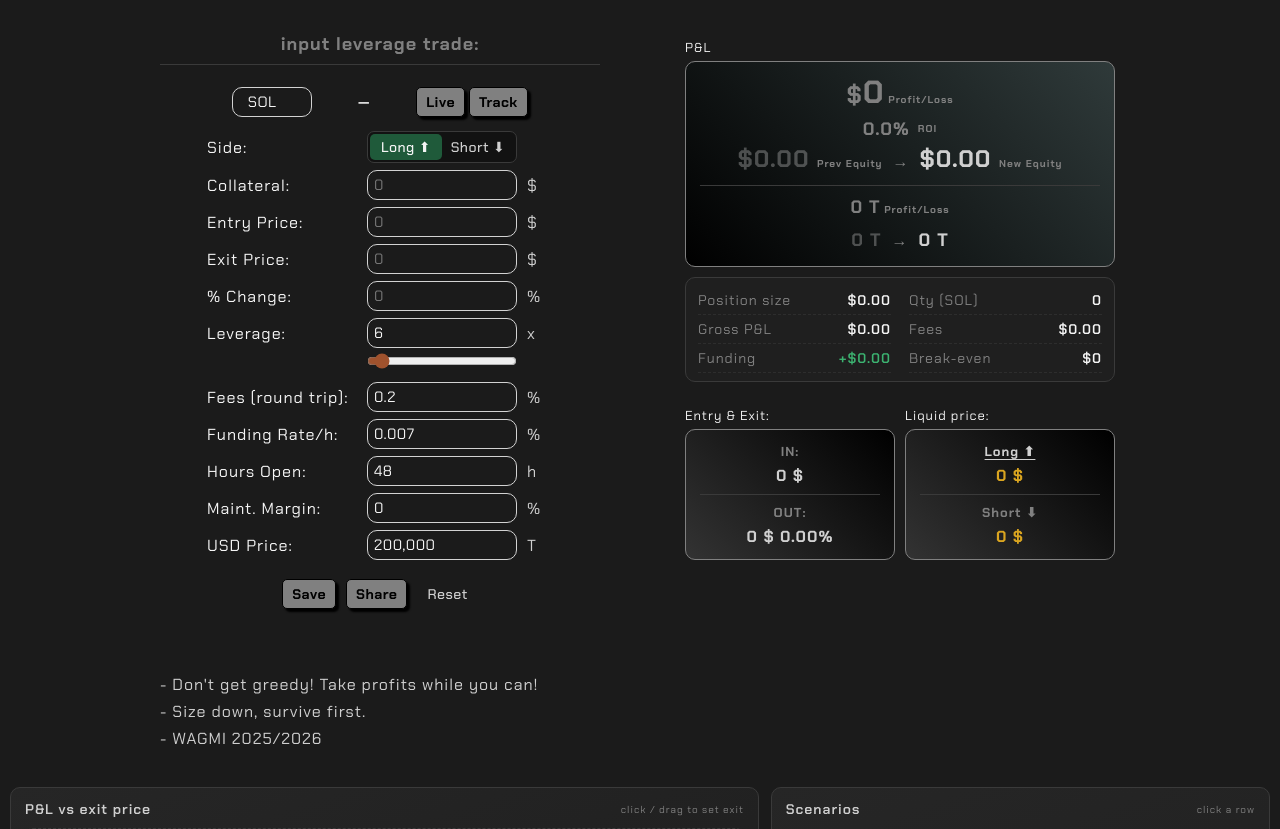
Scenario: Leverage calculator › toggles short with the x shortcut and recomputes pnl
Step 1. Type "100" into the field named "Collateral" → point(442, 185), box top-left (367, 170), bottom-right (517, 200)
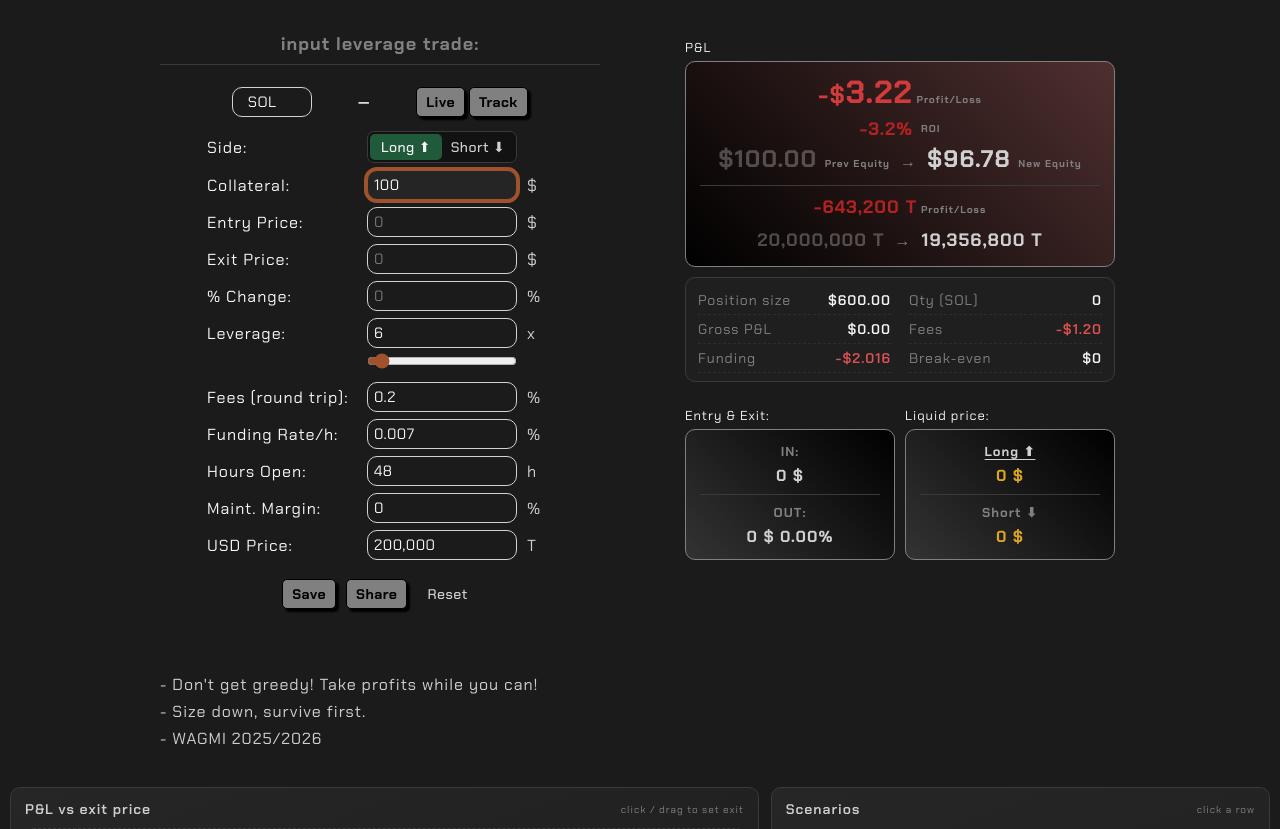
Step 2. Type "100" into the field named "Entry Price" → point(442, 222), box top-left (367, 207), bottom-right (517, 237)
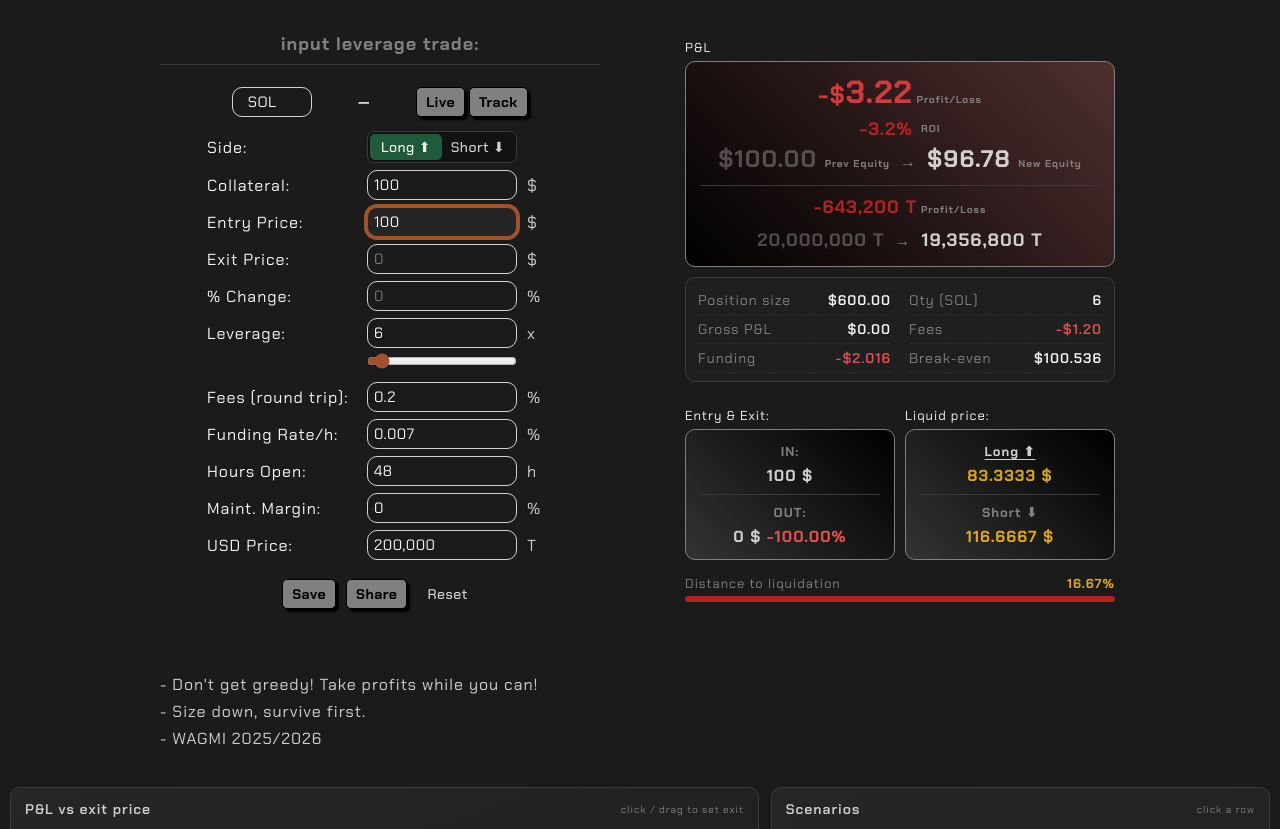
Step 3. Replace the text in the field named "Fees" with "0" → point(442, 397), box top-left (367, 382), bottom-right (517, 412)
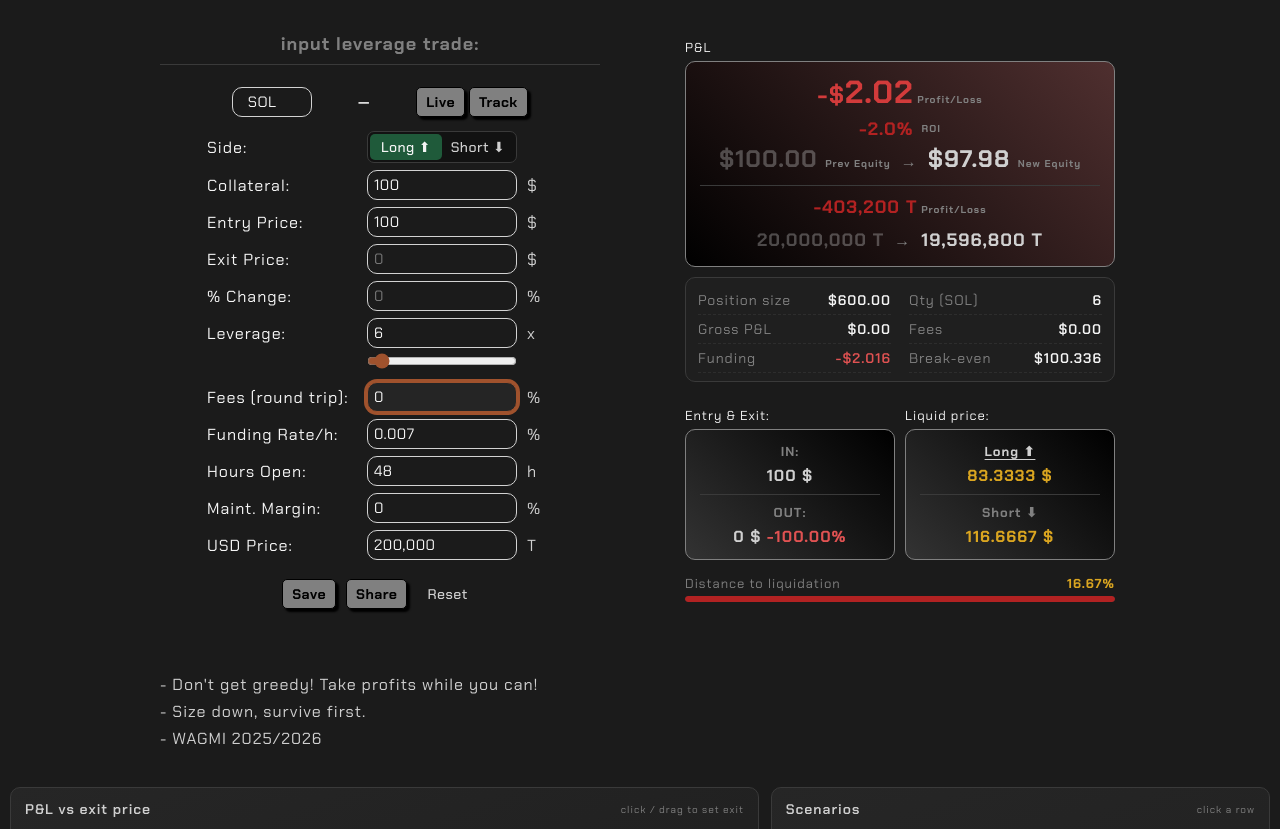
Step 4. Replace the text in the field named "Funding Rate" with "0" → point(442, 434), box top-left (367, 419), bottom-right (517, 449)
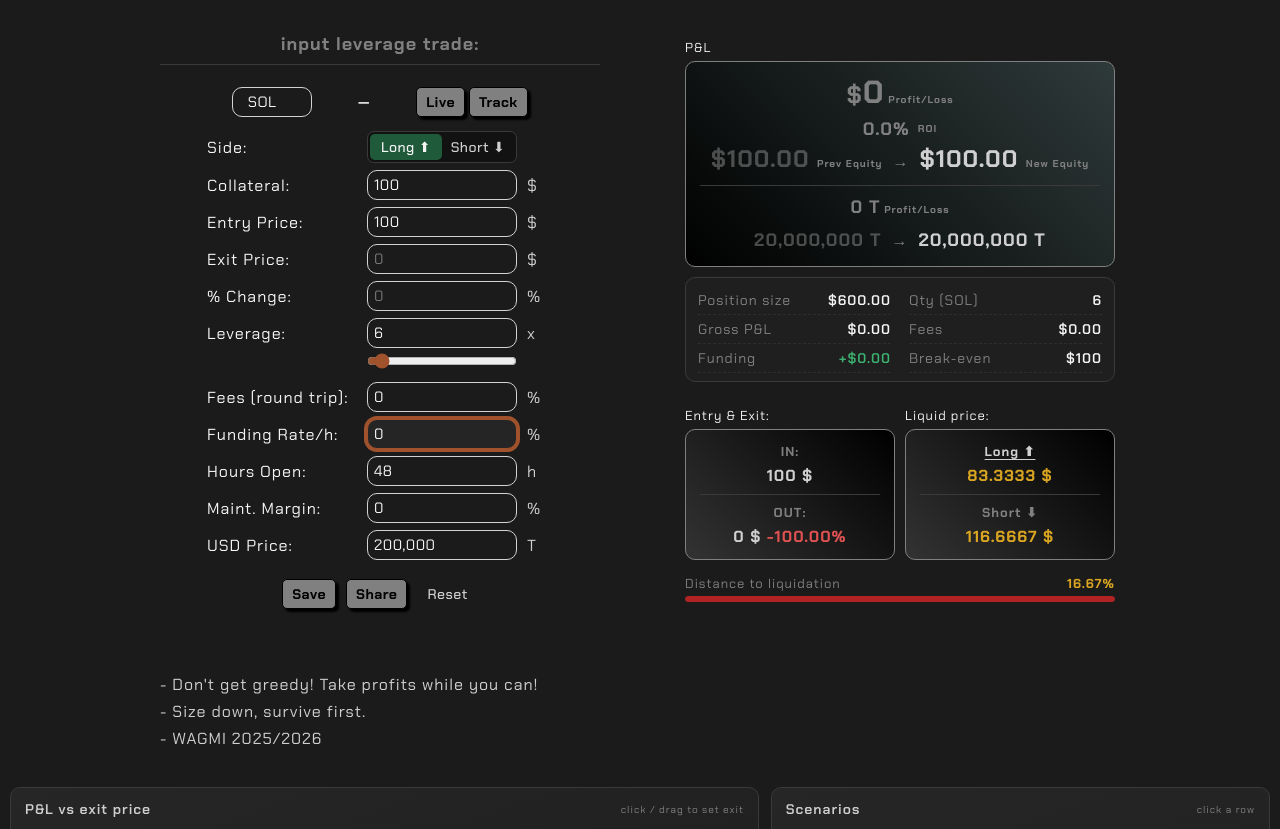
Step 5. Type "80" into the field named "Exit Price" → point(442, 259), box top-left (367, 244), bottom-right (517, 274)
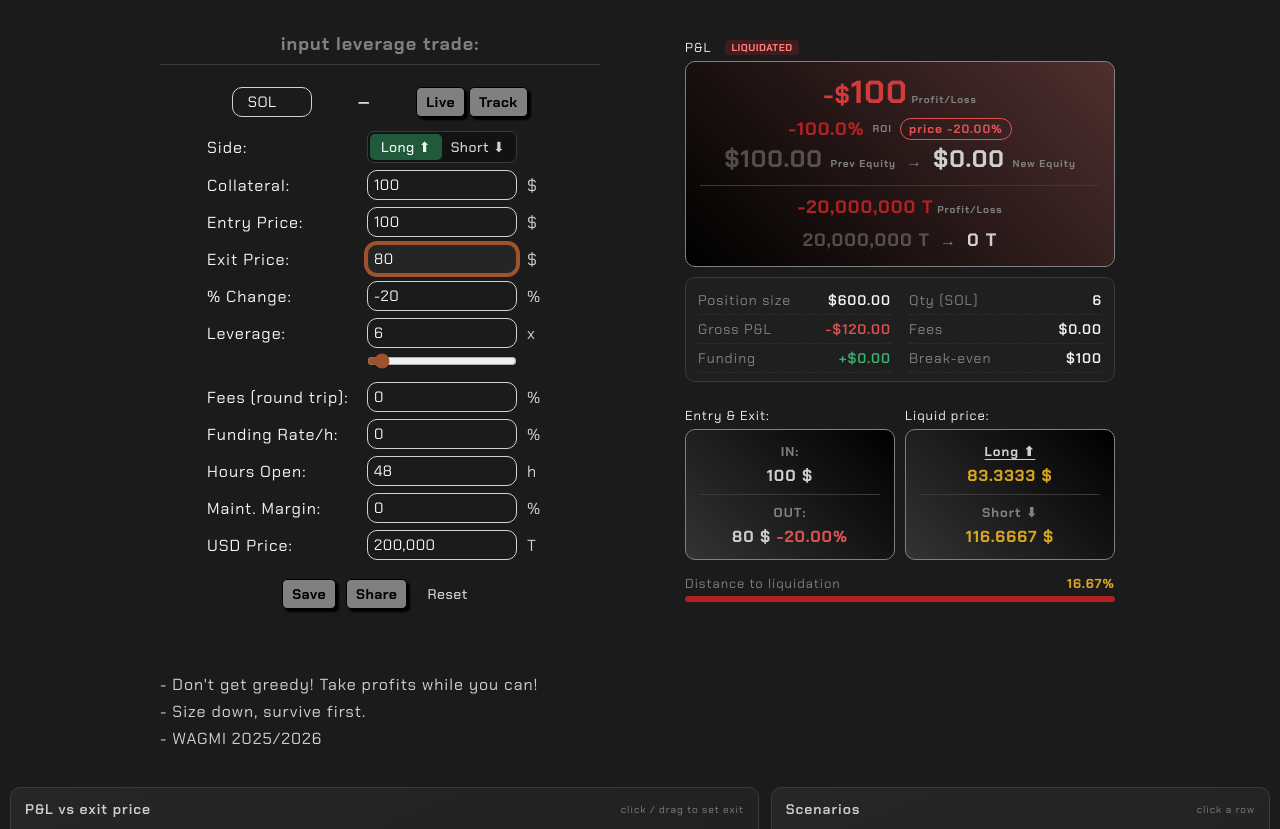
Check: the text "LIQUIDATED" is shown, box top-left (725, 40), bottom-right (799, 55)
Step 6. Press x
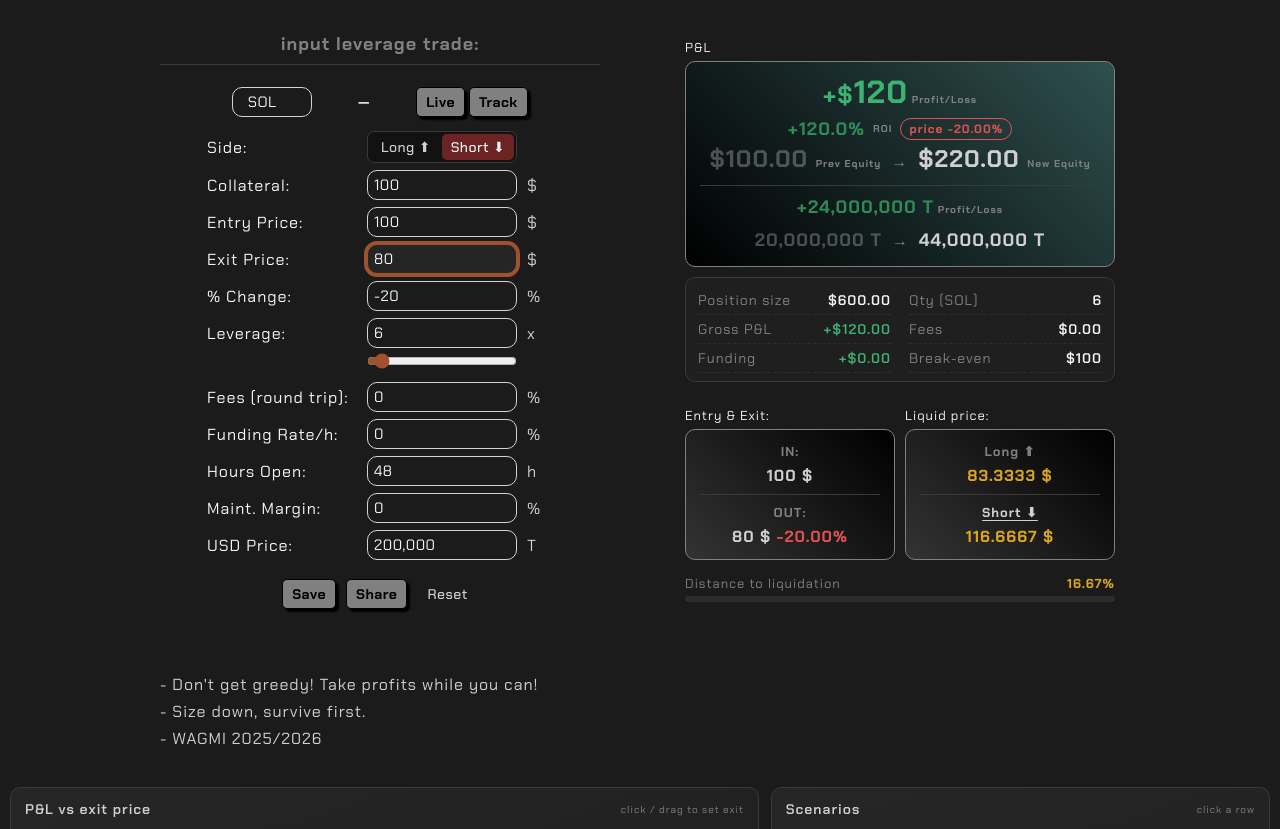
Check: the text "LIQUIDATED" is gone
Check: the text "120" is shown, box top-left (854, 71), bottom-right (908, 113)
